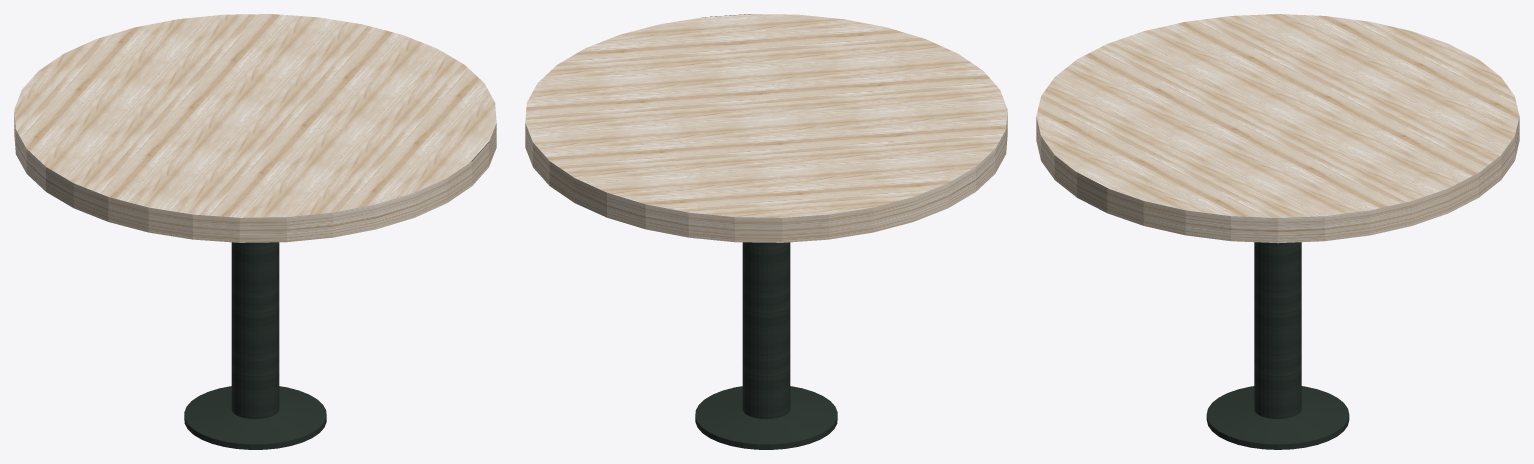
The model's file is Table.fbx.
3 views of the same model, side by side, from view 1: azimuth 30°, elevation 25°; view 2: azimuth 150°, elevation 25°; view 3: azimuth 270°, elevation 25° (orthographic).
Visible parts, largest first — view 1: 円柱; view 2: 円柱; view 3: 円柱.
Part boxes in pixels (<box>): 円柱: <box>14,14,496,449</box>; 円柱: <box>525,14,1007,449</box>; 円柱: <box>1036,14,1519,449</box>.
Size of the model in its own units: 3500 by 2428 by 3500.
1 material, 1 textured.
